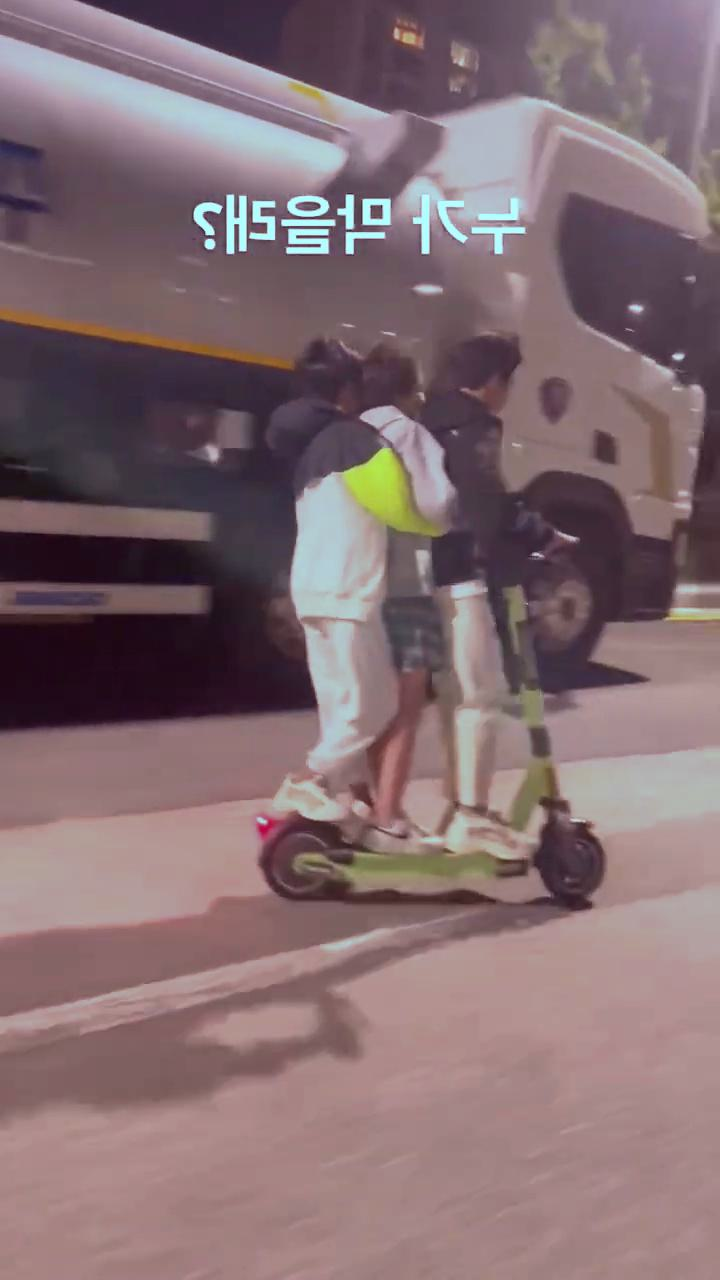multiple: (249, 325, 609, 908)
